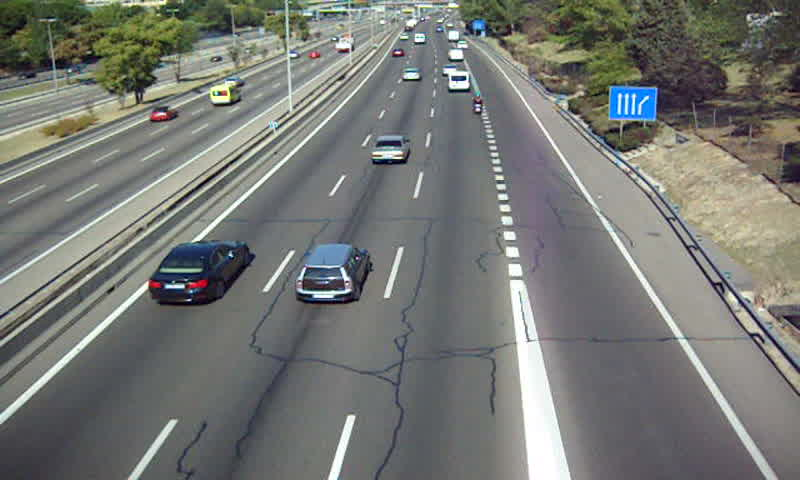car: (148, 240, 249, 304), (294, 244, 370, 304), (370, 134, 409, 163), (402, 66, 420, 81)
motorcycle: (472, 94, 485, 114)
van: (448, 70, 470, 92), (450, 50, 466, 62)
